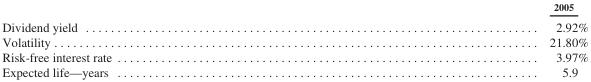table: (1, 1, 587, 78)
table column: (1, 1, 329, 78), (329, 1, 587, 78)
table column header: (1, 1, 587, 15)
table row: (1, 15, 587, 33), (1, 33, 587, 49), (1, 49, 587, 64), (1, 1, 587, 15), (1, 64, 587, 78)
